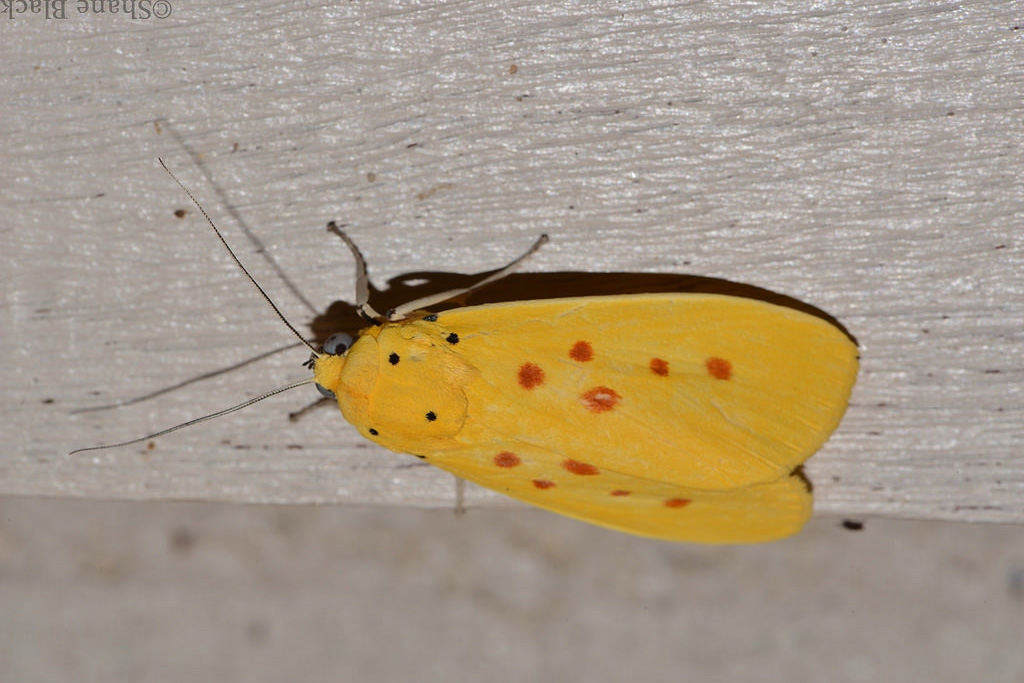Agape chloropyga: (63, 150, 871, 546)
moth: (61, 148, 869, 544)
